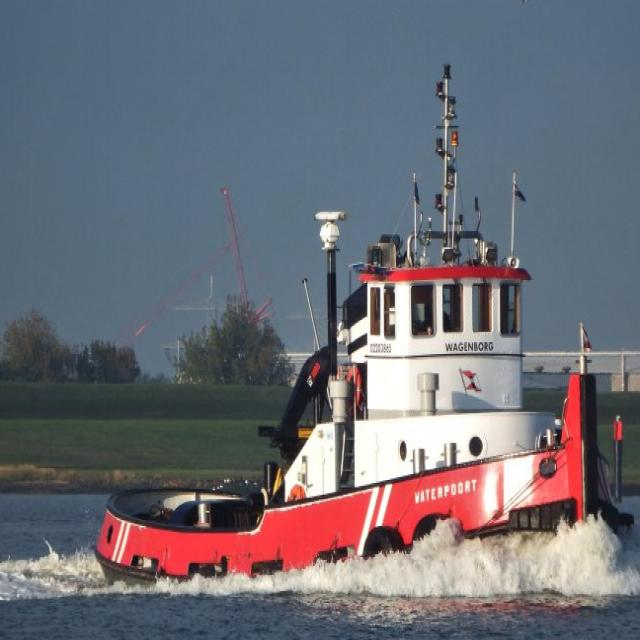tugboat: (89, 59, 640, 617)
